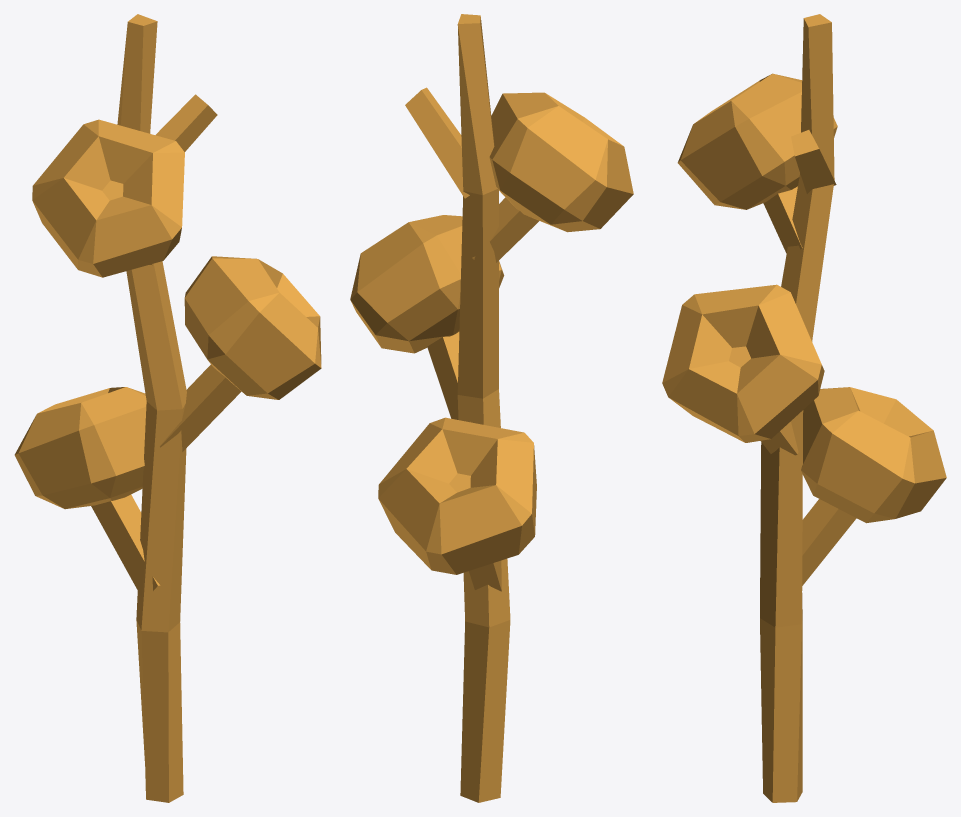
File: cotton.fbx
3 renders of one model, left to right at view 1: azimuth 30°, elevation 25°; view 2: azimuth 150°, elevation 25°; view 3: azimuth 270°, elevation 25°, orthographic. The views are drawn at different scales.
Visible parts, largest first — view 1: cotton; view 2: cotton; view 3: cotton.
Part boxes in pixels (x1=…): cotton: x1=14, y1=14, x2=321, y2=802; cotton: x1=350, y1=14, x2=633, y2=802; cotton: x1=662, y1=14, x2=946, y2=802.
Bounding box in the file's own units: 0.293 × 0.8181 × 0.2731.
